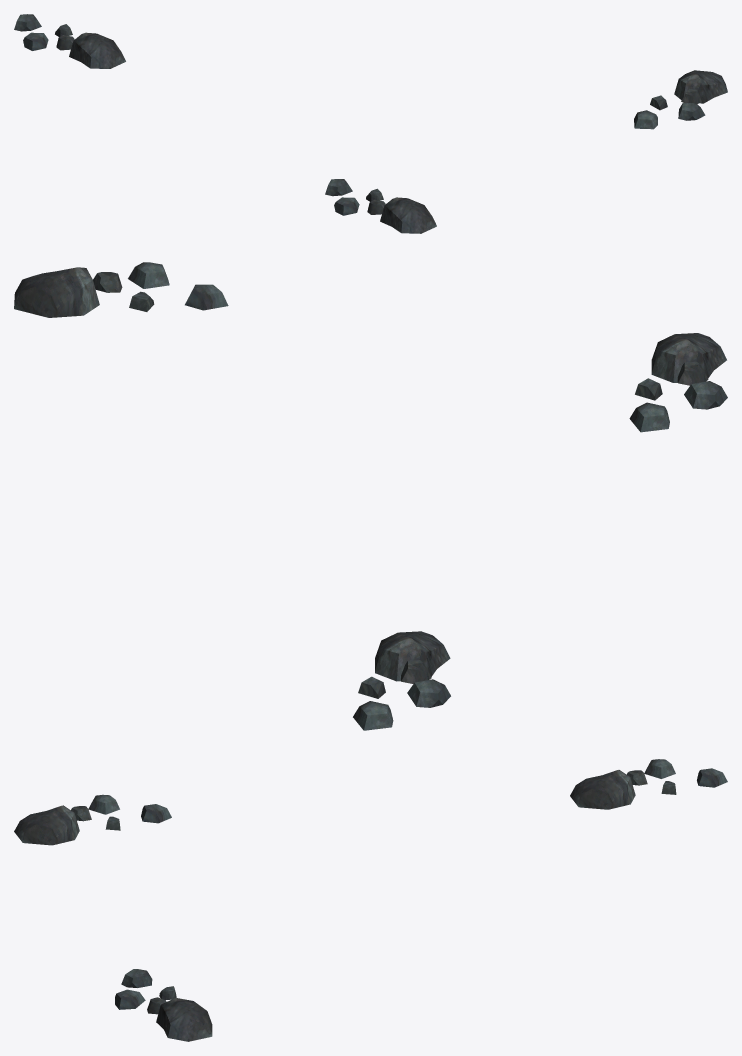
File: object_rubble03.fbx
The picture shows the model from 3 angles, top to bottom: view 1: azimuth 30°, elevation 25°; view 2: azimuth 150°, elevation 25°; view 3: azimuth 270°, elevation 25°; orthographic projection. The views are drawn at different scales.
Parts seen in each view (by area): view 1: Material_#238683587/cliffside; view 2: Material_#238683587/cliffside; view 3: Material_#238683587/cliffside.
Boxes of the visible parts, x1,y1,x2,y2 form: Material_#238683587/cliffside: (14,14,727,233); Material_#238683587/cliffside: (14,262,727,730); Material_#238683587/cliffside: (14,759,727,1041).
Bounding box in the file's own units: 9.36 × 0.4087 × 10.44.
